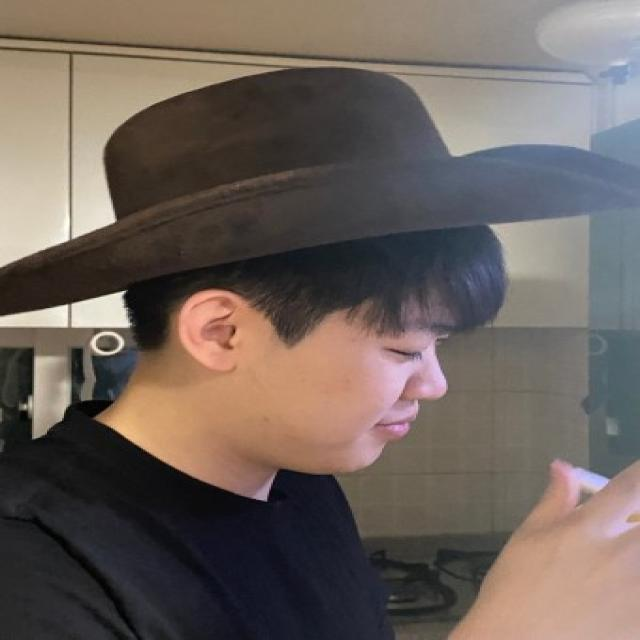hat: (2, 62, 638, 321)
